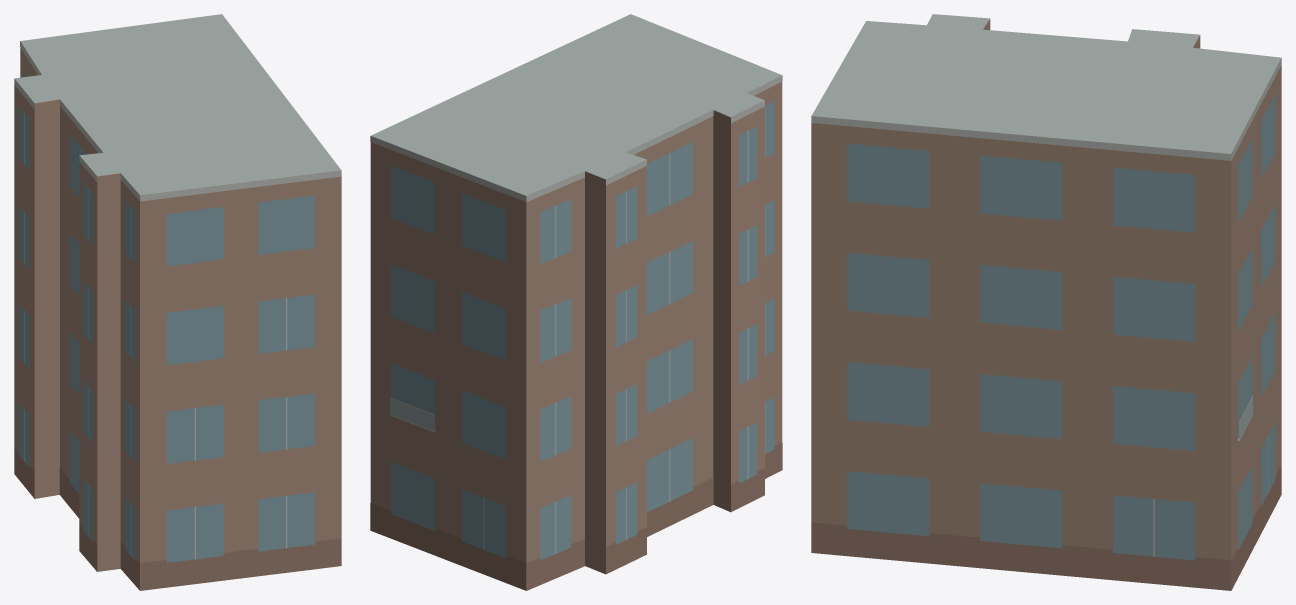
Rendered from survey-upis-32864858.glb.
3 views of the same model, side by side, from view 1: azimuth 30°, elevation 25°; view 2: azimuth 150°, elevation 25°; view 3: azimuth 270°, elevation 25° (orthographic). The views are drawn at different scales.
Visible parts, largest first — view 1: survey-upis-32864858.tmp; view 2: survey-upis-32864858.tmp; view 3: survey-upis-32864858.tmp.
Boxes of the visible parts, x1=… form: survey-upis-32864858.tmp: x1=14, y1=14, x2=341, y2=590; survey-upis-32864858.tmp: x1=370, y1=14, x2=782, y2=590; survey-upis-32864858.tmp: x1=811, y1=14, x2=1281, y2=590.
Bounding box in the file's own units: 10.72 × 15.57 × 15.2.
